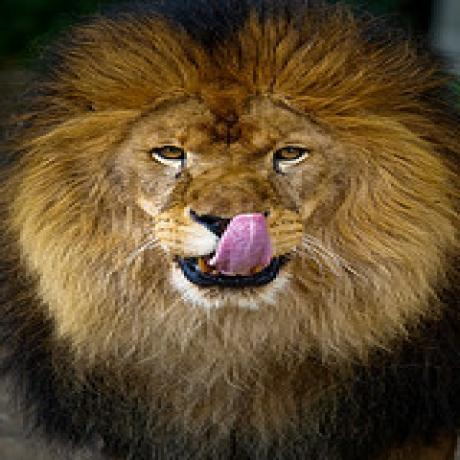Lion: (6, 8, 459, 460)
